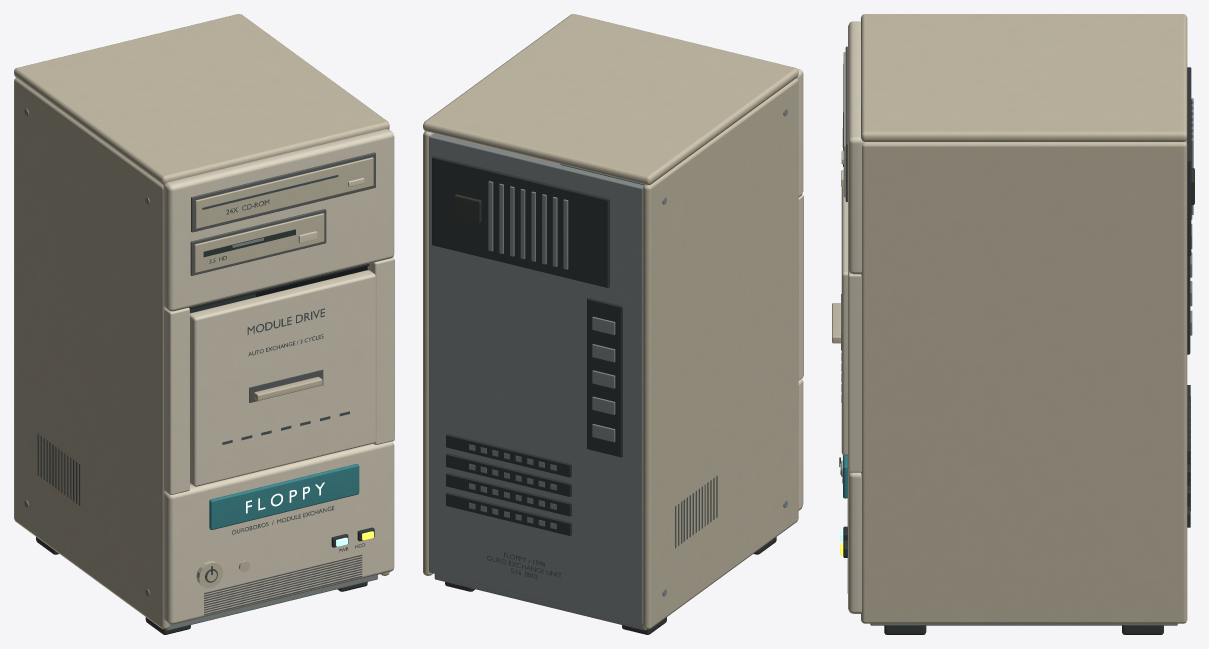
Rendered from Floppy.glb.
3 views of the same model, side by side, from view 1: azimuth 30°, elevation 25°; view 2: azimuth 150°, elevation 25°; view 3: azimuth 270°, elevation 25° (orthographic). The views are drawn at different scales.
Parts seen in each view (by area): view 1: Left_Steel_Shell, Top_Steel_Shell, Tray_Grip_Front, Front_Lower, Front_Upper, Optical_Drive_Bezel, Bay_Side, Floppy_Badge, Bay_Side.001, Floppy_Drive_Bezel, Optical_Drive_Seam, Floppy_Drive_Seam (+3 smaller); view 2: Left_Steel_Shell, Back_Panel, Top_Steel_Shell, PSU_Recess, IO_Shield, Right_Steel_Shell, PCI_Blank.001, PCI_Blank.003, PCI_Blank.002, PCI_Blank, Bottom_Chassis, Bay_Side (+3 smaller); view 3: Right_Steel_Shell, Top_Steel_Shell, Front_Upper, Bay_Side.001, Front_Lower, Tray_Grip_Front, PSU_Recess, Bottom_Chassis.
Part boxes in pixels (bbox=[...]): Left_Steel_Shell: bbox=[14, 78, 169, 629]; Top_Steel_Shell: bbox=[14, 14, 389, 184]; Tray_Grip_Front: bbox=[190, 270, 375, 486]; Front_Lower: bbox=[163, 441, 394, 624]; Front_Upper: bbox=[163, 129, 394, 311]; Optical_Drive_Bezel: bbox=[195, 157, 373, 228]; Bay_Side: bbox=[164, 307, 189, 494]; Floppy_Badge: bbox=[209, 464, 359, 529]; Bay_Side.001: bbox=[367, 257, 394, 444]; Floppy_Drive_Bezel: bbox=[194, 213, 324, 272]; Optical_Drive_Seam: bbox=[191, 152, 375, 232]; Floppy_Drive_Seam: bbox=[190, 209, 326, 275]; Left_Steel_Shell: bbox=[643, 78, 798, 629]; Back_Panel: bbox=[429, 134, 643, 624]; Top_Steel_Shell: bbox=[423, 14, 798, 185]; PSU_Recess: bbox=[432, 156, 609, 287]; IO_Shield: bbox=[587, 298, 622, 457]; Right_Steel_Shell: bbox=[423, 131, 560, 575]; PCI_Blank.001: bbox=[446, 473, 571, 516]; PCI_Blank.003: bbox=[446, 434, 571, 477]; PCI_Blank.002: bbox=[446, 453, 571, 496]; PCI_Blank: bbox=[446, 492, 571, 535]; Bottom_Chassis: bbox=[434, 574, 646, 630]; Bay_Side: bbox=[798, 194, 803, 380]; Right_Steel_Shell: bbox=[861, 141, 1187, 623]; Top_Steel_Shell: bbox=[861, 14, 1187, 141]; Front_Upper: bbox=[848, 21, 865, 274]; Bay_Side.001: bbox=[848, 269, 861, 472]; Front_Lower: bbox=[848, 471, 861, 613]; Tray_Grip_Front: bbox=[841, 187, 847, 455]; PSU_Recess: bbox=[1187, 67, 1191, 255]; Bottom_Chassis: bbox=[870, 623, 1177, 625].
Size of the model in its own units: 0.9236 by 1.81 by 1.17.
Materials: 11 (5 with a texture image).
